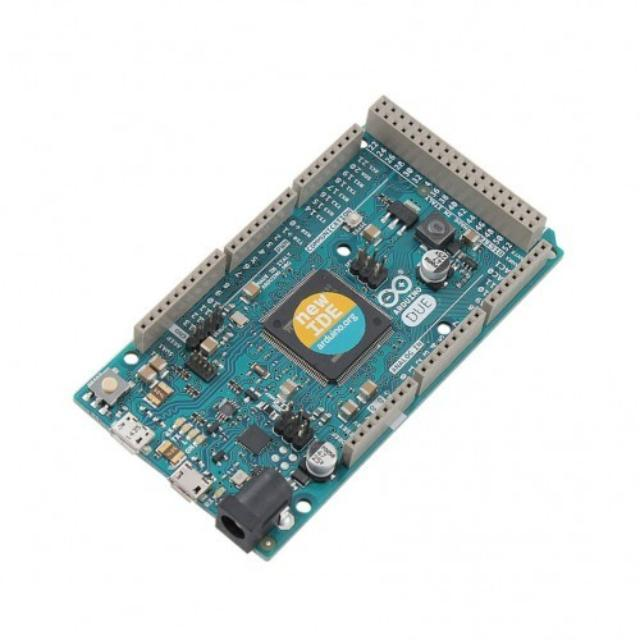Arduino-Due: (75, 97, 562, 559)
